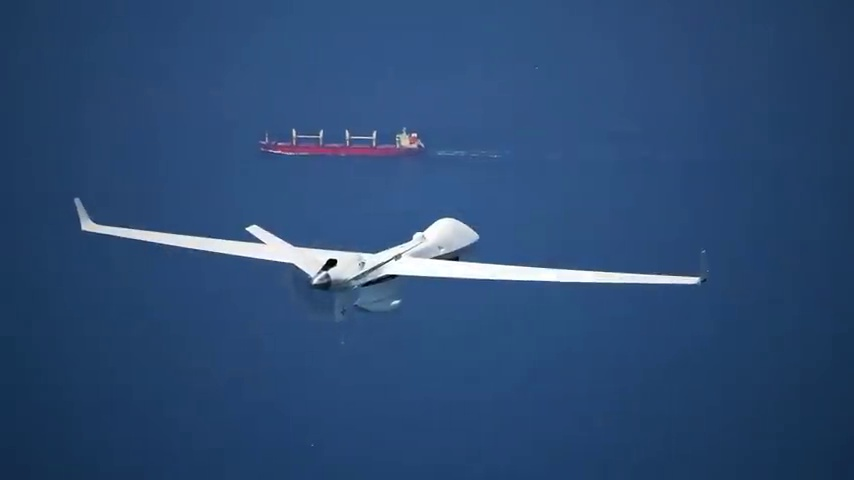military drone: (74, 196, 707, 322)
